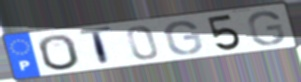0: (125, 24, 160, 61)
5: (205, 13, 242, 52)
G: (163, 19, 205, 56), (245, 10, 287, 46)
O: (36, 33, 82, 72)
T: (78, 25, 115, 68)
